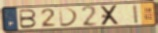2: (81, 4, 99, 28), (40, 8, 58, 28)
B: (19, 9, 38, 29)
D: (58, 7, 80, 28)
I: (132, 4, 140, 25)
X: (99, 5, 121, 27)
